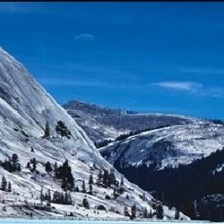neutral: (2, 8, 224, 221)
